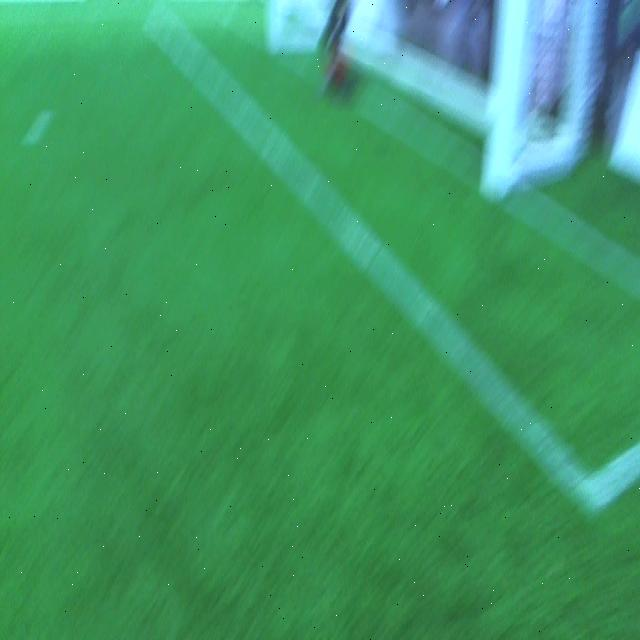goalpost: (483, 0, 532, 203), (266, 2, 283, 55)
